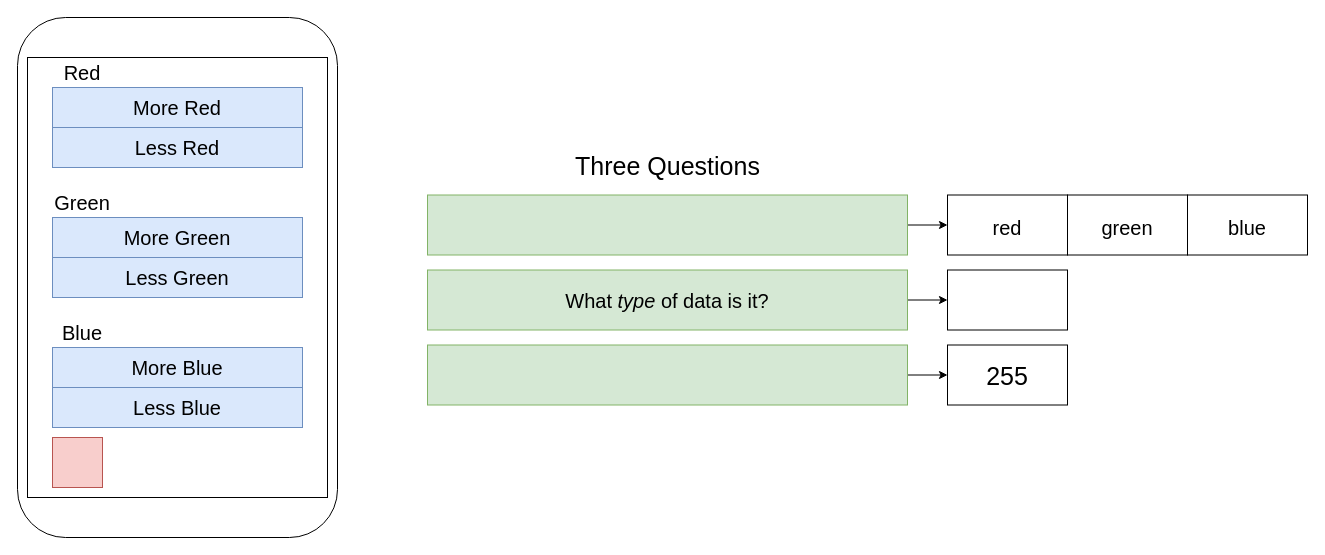
This 1325x555 diagram has some shape labels left out. The centre of each missing label's shape, as x and y in pixels:
number: point (1007, 299)
What is the data's starting(default) value: point (667, 374)
What piece of data is changing in our app?: point (667, 224)
